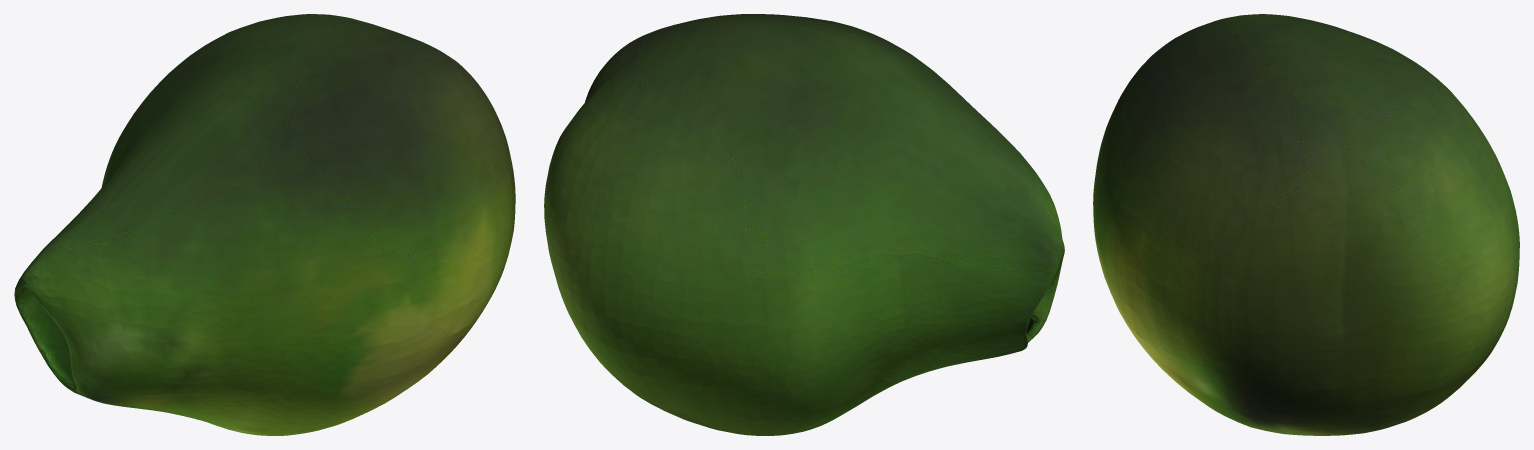
File: large_green_pear_in_the_foreground_right_000.glb
The picture shows the model from 3 angles, left to right: view 1: azimuth 30°, elevation 25°; view 2: azimuth 150°, elevation 25°; view 3: azimuth 270°, elevation 25°; orthographic projection. The views are drawn at different scales.
Visible parts, largest first — view 1: phase2_final_large_green_pear_in_the_foreground_right_000.ob; view 2: phase2_final_large_green_pear_in_the_foreground_right_000.ob; view 3: phase2_final_large_green_pear_in_the_foreground_right_000.ob.
Boxes of the visible parts, x1,y1,x2,y2 form: phase2_final_large_green_pear_in_the_foreground_right_000.ob: [14, 14, 515, 435]; phase2_final_large_green_pear_in_the_foreground_right_000.ob: [544, 14, 1064, 435]; phase2_final_large_green_pear_in_the_foreground_right_000.ob: [1093, 14, 1519, 435].
Size of the model in its own units: 0.2861 by 0.2204 by 0.2183.
1 material, 1 textured.
